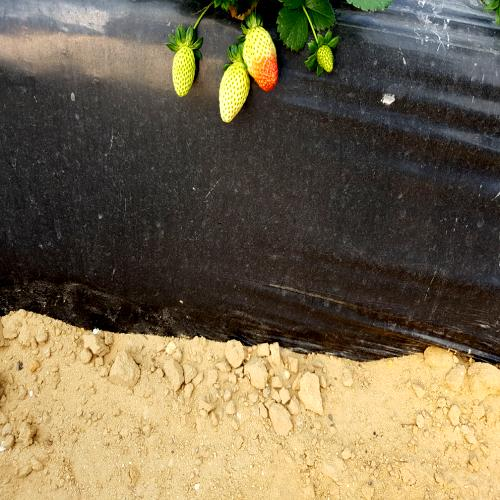partially-ripe: (239, 18, 277, 85)
unripe: (220, 60, 248, 127), (173, 39, 197, 93), (310, 42, 339, 81)
